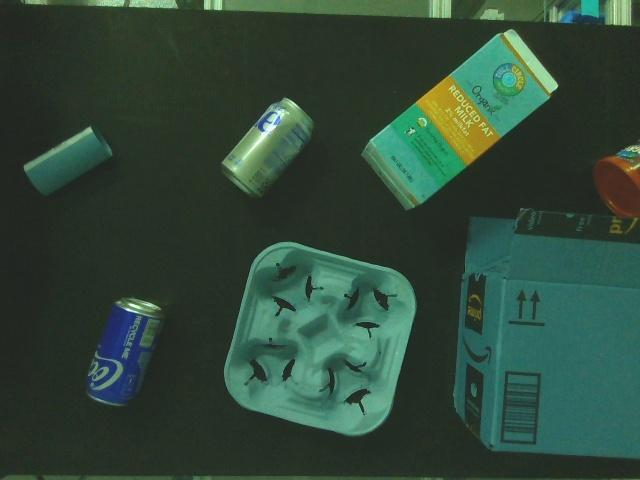cardboard: (451, 206, 640, 463), (223, 240, 417, 436), (359, 26, 562, 213), (22, 124, 116, 200)
metal: (220, 92, 316, 204), (84, 295, 165, 412)
plastic: (593, 134, 640, 220)
